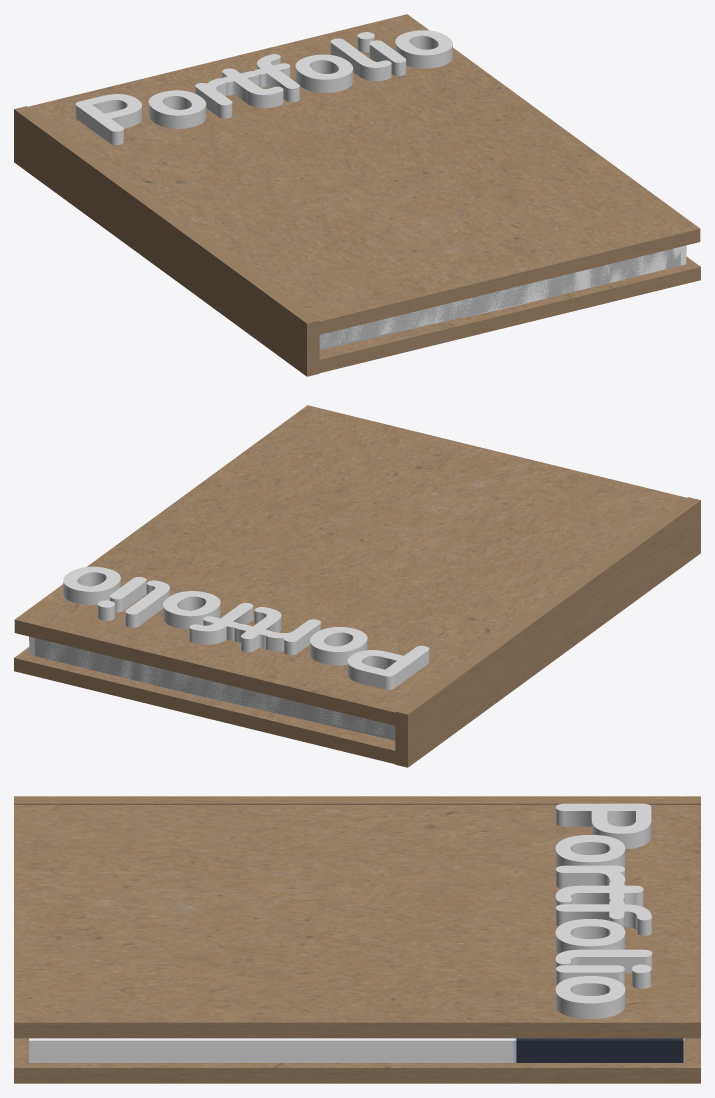
The model's file is book.glb.
3 views of the same model, one above another, from view 1: azimuth 30°, elevation 25°; view 2: azimuth 150°, elevation 25°; view 3: azimuth 270°, elevation 25° (orthographic). The views are drawn at different scales.
Parts seen in each view (by area): view 1: l, spin, Text, r, Plane, Plane.001; view 2: l, spin, Text, r, Plane, Plane.001; view 3: l, Text, Plane.001, r, spin.
Part boxes in pixels (x1,y1,x2,y2): l: [28, 14, 700, 334]; spin: [14, 106, 319, 376]; Text: [75, 30, 452, 144]; r: [316, 256, 700, 373]; Plane: [319, 248, 680, 350]; Plane.001: [320, 245, 686, 347]; l: [14, 405, 686, 725]; spin: [395, 497, 700, 767]; Text: [63, 566, 429, 689]; r: [14, 647, 398, 764]; Plane: [34, 638, 395, 740]; Plane.001: [29, 636, 395, 737]; l: [14, 805, 700, 1038]; Text: [555, 803, 652, 1018]; Plane.001: [29, 1038, 684, 1062]; r: [14, 1038, 700, 1083]; spin: [14, 796, 700, 804].
Bounding box in the file's own units: 1.55 × 0.2465 × 2.
3 materials, 3 textured.
